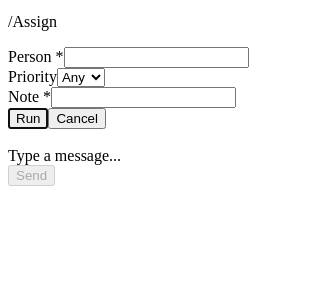
Scenario: CommandArgumentsForm › lists every missing required value, focuses the first and clears a value once it is given
Click the button "Run" at (28,118), box left=8, top=108, right=48, bottom=129
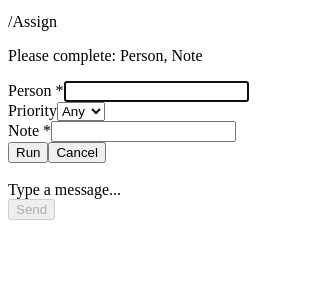
Result: the message reads "Please complete: Person, Note" at left=8, top=47, right=203, bottom=64
Type "bis Freitag" into the field labelled "Note *" at (144,132), box left=51, top=121, right=236, bottom=142
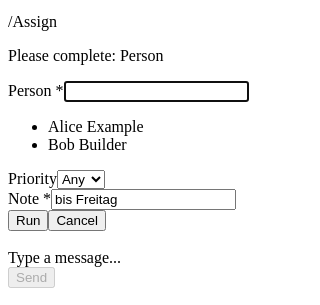
Expected: the message reads "Please complete: Person", left=8, top=47, right=164, bottom=64
Result: the field labelled "Note *" does not have attribute aria-invalid at left=51, top=189, right=236, bottom=210
